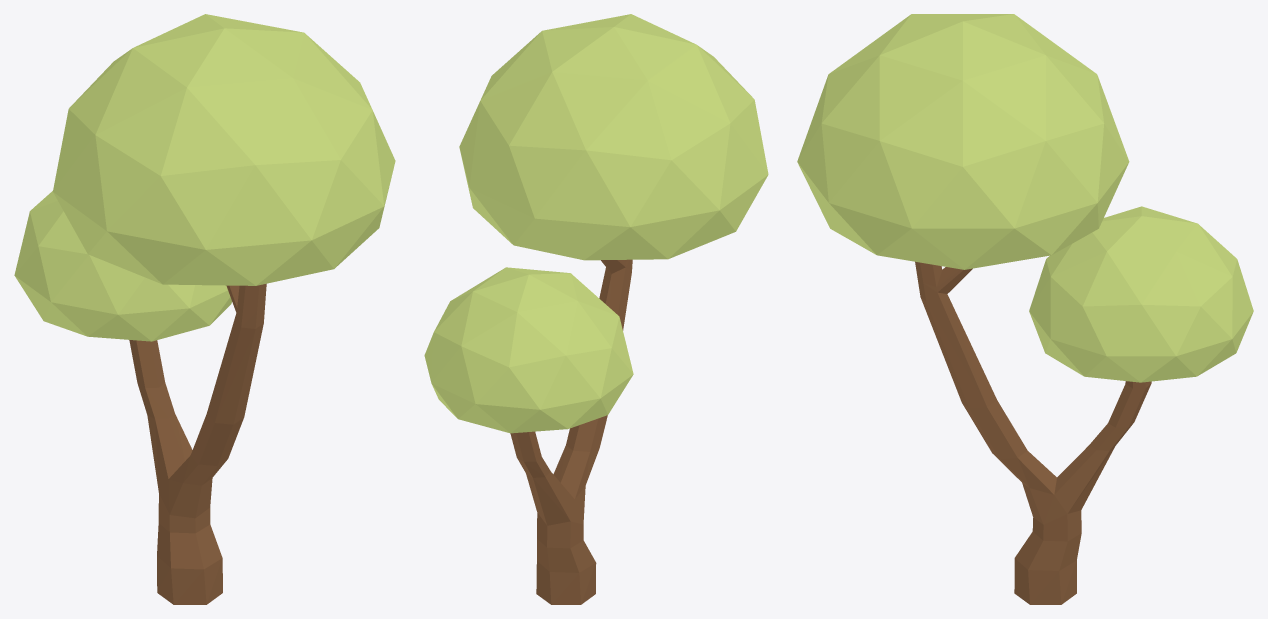
File: Tree1.glb
The picture shows the model from 3 angles, left to right: view 1: azimuth 30°, elevation 25°; view 2: azimuth 150°, elevation 25°; view 3: azimuth 270°, elevation 25°; orthographic projection. The views are drawn at different scales.
Parts seen in each view (by area): view 1: Tree1; view 2: Tree1; view 3: Tree1.
Boxes of the visible parts, left/top/right/bottom form: Tree1: left=14, top=14, right=395, bottom=604; Tree1: left=424, top=14, right=768, bottom=604; Tree1: left=797, top=14, right=1253, bottom=604.
Bounding box in the file's own units: 2.07 × 4.1 × 2.99.
